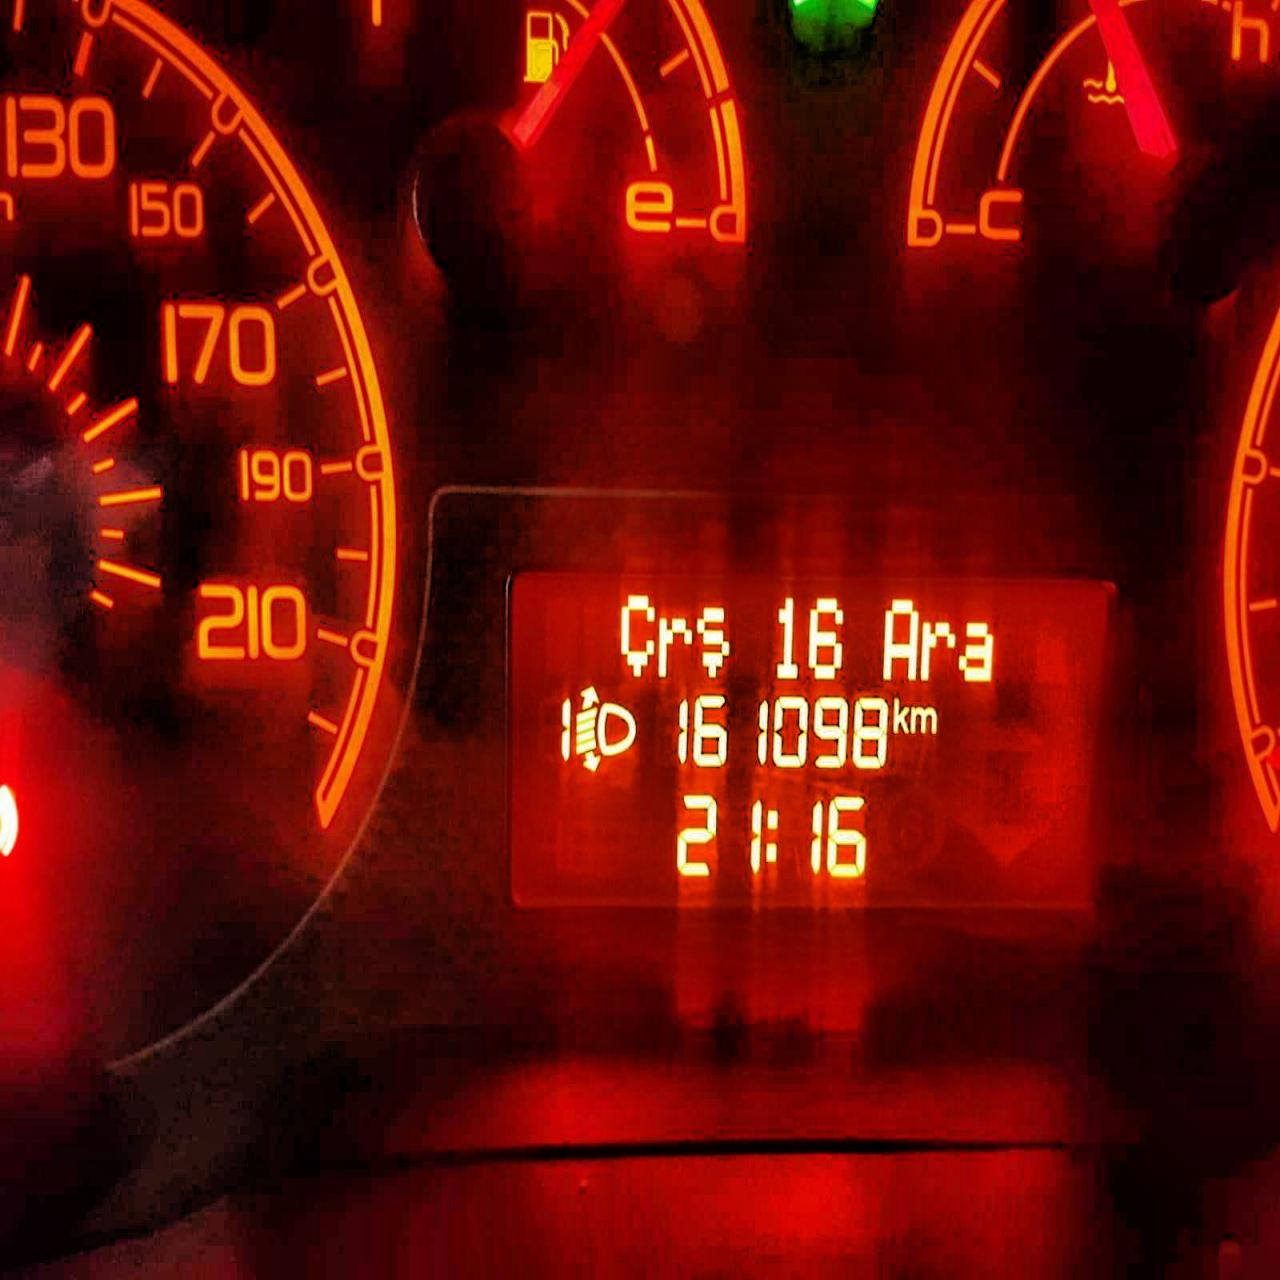0: (772, 693, 809, 768)
1: (776, 594, 798, 680), (748, 798, 763, 874), (808, 798, 823, 874), (755, 697, 769, 765), (559, 695, 573, 763), (676, 696, 688, 763)
2: (674, 792, 716, 877)
6: (825, 794, 866, 879), (805, 595, 844, 680), (692, 693, 728, 768)
8: (850, 696, 890, 770)
9: (811, 694, 849, 769)
X: (881, 598, 919, 681), (619, 593, 655, 675), (696, 605, 730, 678), (919, 620, 956, 681), (956, 620, 993, 682), (656, 615, 692, 678), (763, 808, 779, 864), (910, 704, 938, 734), (892, 696, 910, 734)
odometer: (503, 565, 1112, 919)
